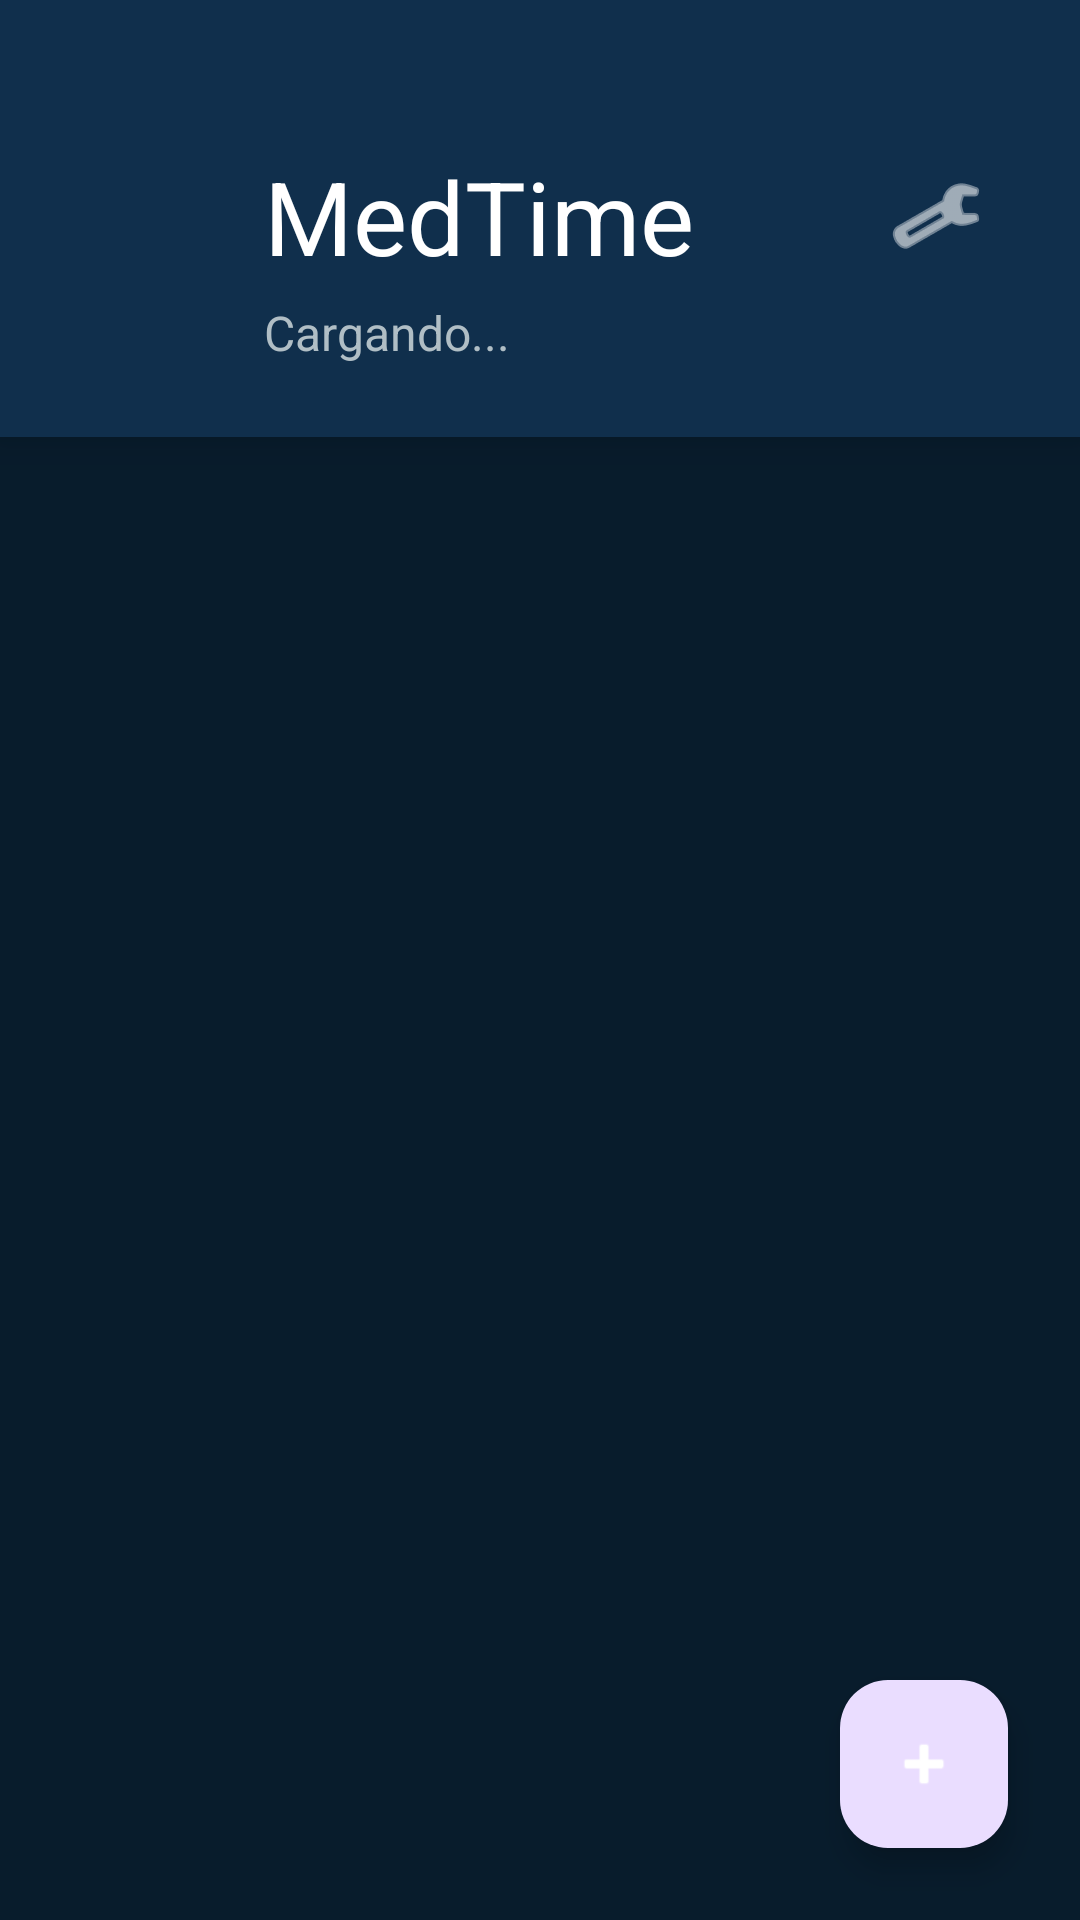

Named icons in this screenshot (1080 x 1920) and their bounding boxes, (x1, y1, x2, y2):
add: (840, 1680, 1008, 1848)
manage: (893, 183, 979, 249)
